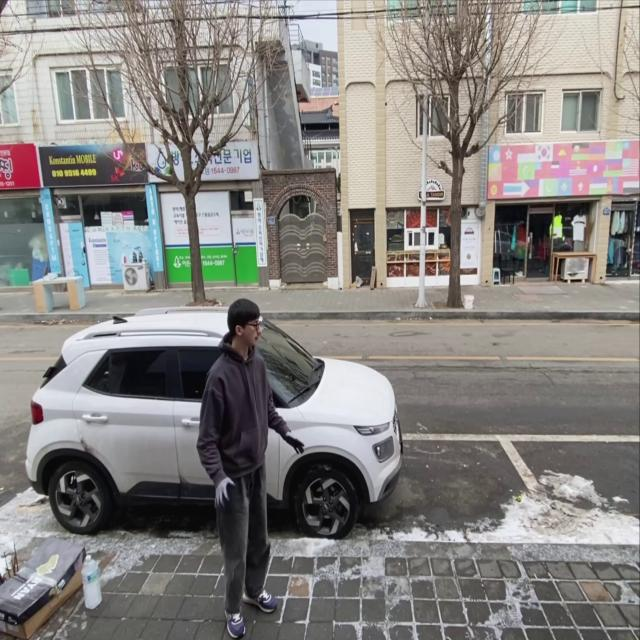gloved_hand: (212, 474, 236, 513), (281, 430, 309, 457)
